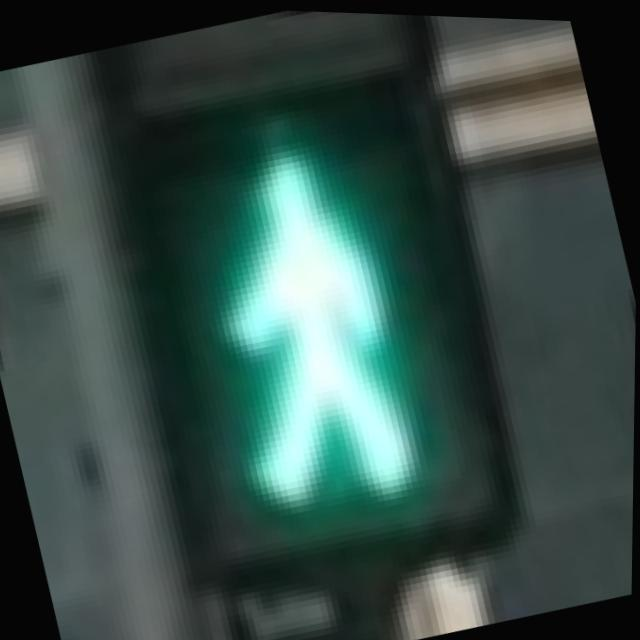green_light: (88, 61, 567, 612)
